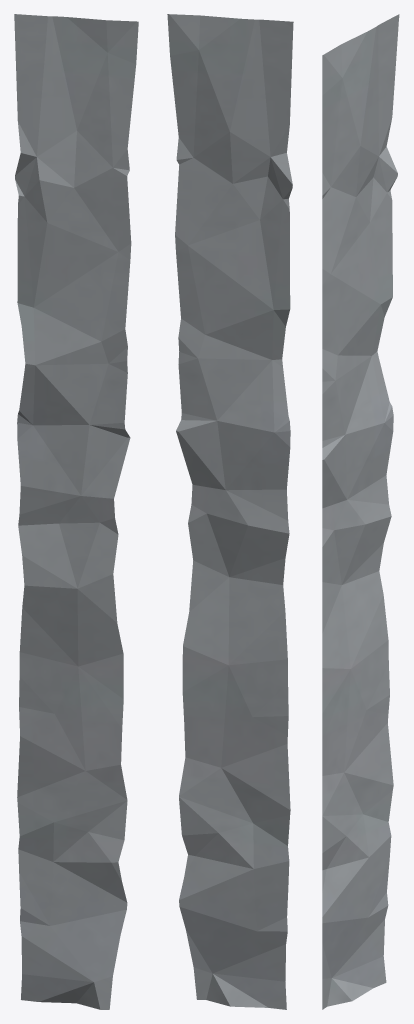
3 views of the same model, side by side, from view 1: azimuth 30°, elevation 25°; view 2: azimuth 210°, elevation 25°; view 3: azimuth 270°, elevation 25° (orthographic). The views are drawn at different scales.
Bounding box in the file's own units: 0.0764 × 0.8374 × 0.0603.
1 material, 1 textured.
